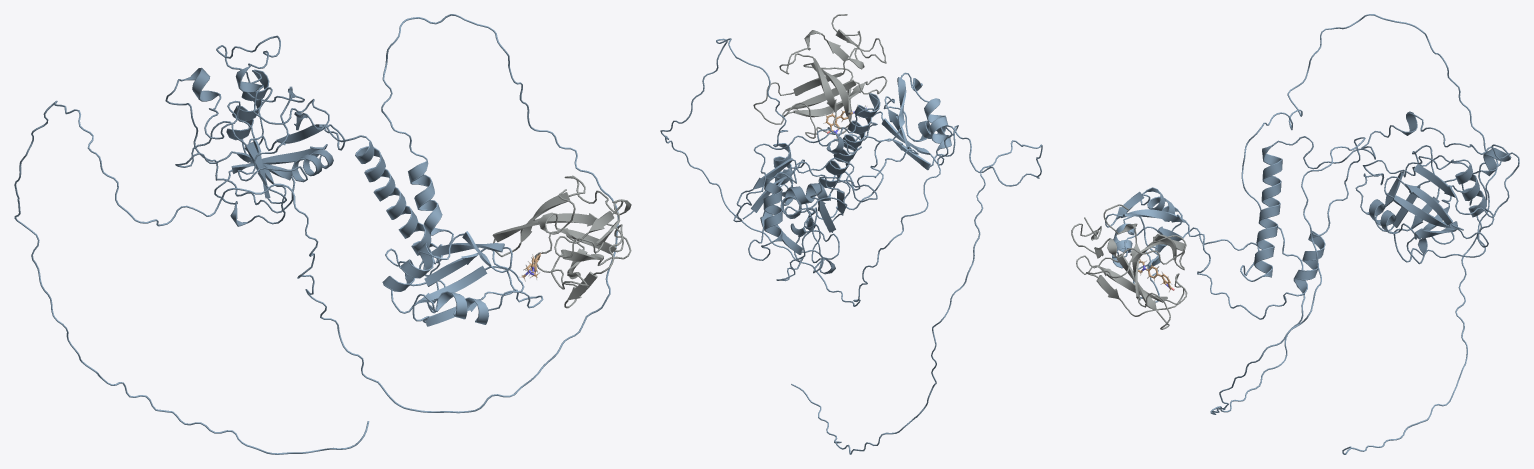
Rendered from negctrl_no_glutarimide.glb.
3 views of the same model, side by side, from view 1: azimuth 30°, elevation 25°; view 2: azimuth 150°, elevation 25°; view 3: azimuth 270°, elevation 25° (orthographic). The views are drawn at different scales.
Visible parts, largest first — view 1: node-geom79, node-geom80; view 2: node-geom79, node-geom80; view 3: node-geom79, node-geom80.
Boxes of the visible parts, x1,y1,x2,y2 form: node-geom79: (165, 35, 631, 308); node-geom80: (14, 14, 618, 454); node-geom79: (733, 14, 887, 281); node-geom80: (660, 38, 1042, 454); node-geom79: (1071, 111, 1519, 329); node-geom80: (1105, 14, 1498, 454).
Bounding box in the file's own units: 122 × 102 × 114.
